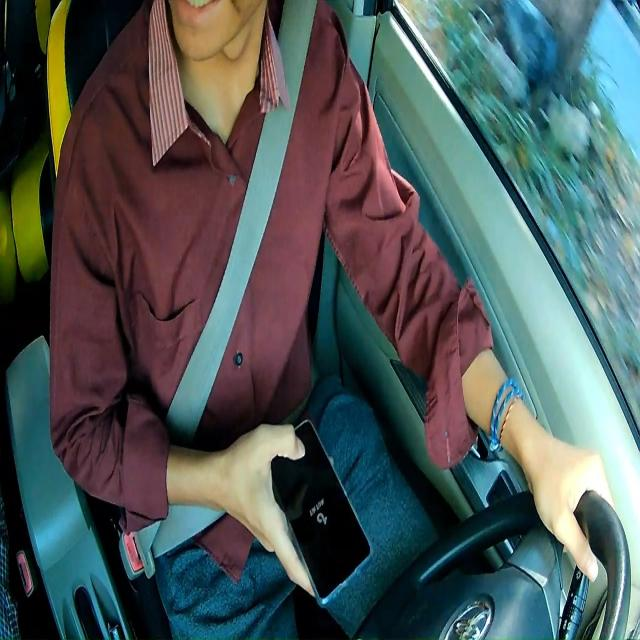phone: (268, 417, 376, 610)
